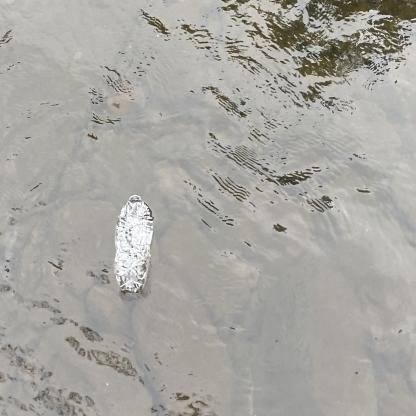trash: (107, 186, 158, 300)
